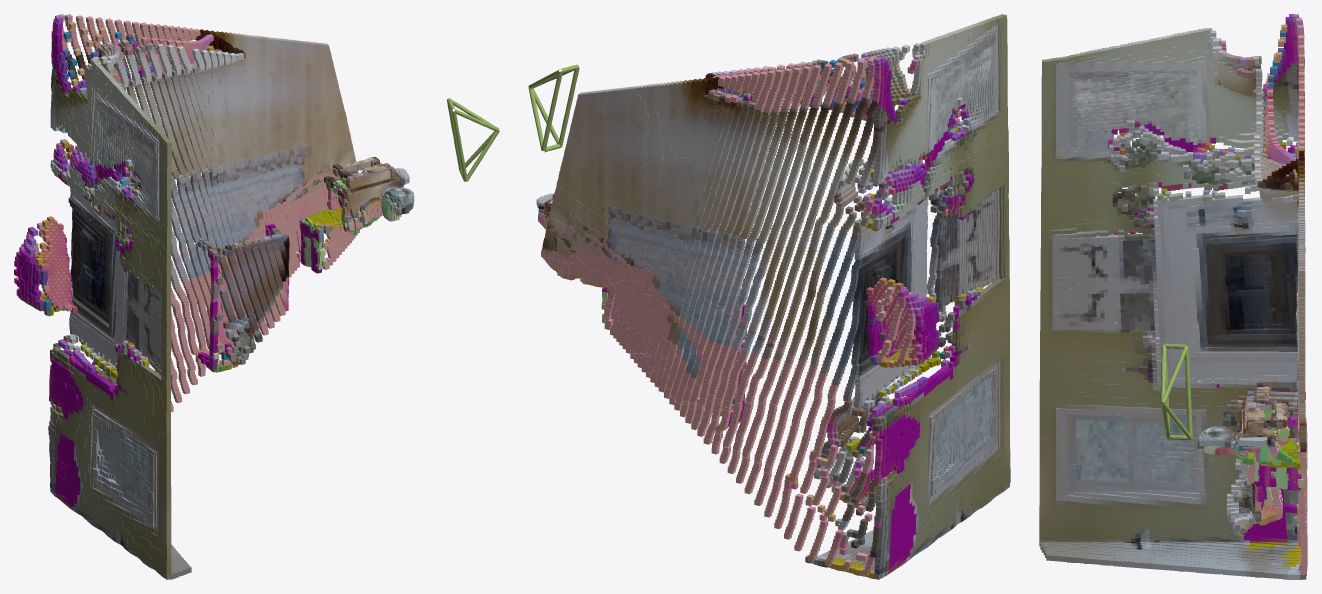
The picture shows the model from 3 angles, left to right: view 1: azimuth 30°, elevation 25°; view 2: azimuth 150°, elevation 25°; view 3: azimuth 270°, elevation 25°; orthographic projection. The views are drawn at different scales.
Bounding box in the file's own units: 4.64 × 5.02 × 2.29.
